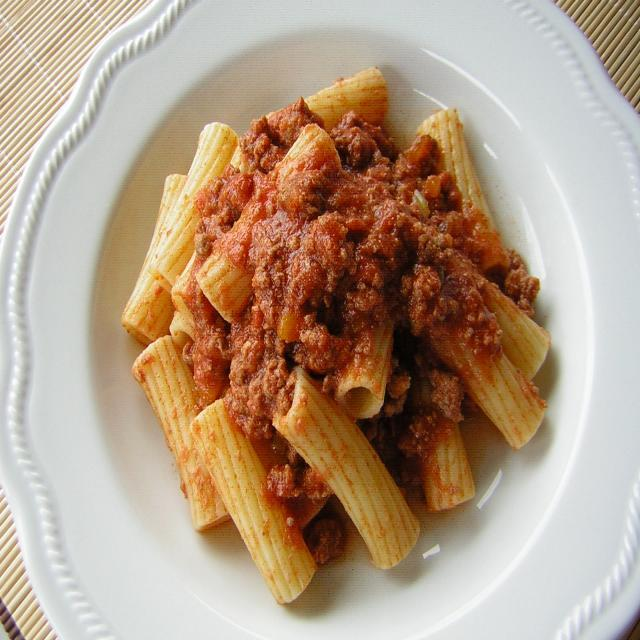Pasta al ragu: (109, 56, 571, 571)
